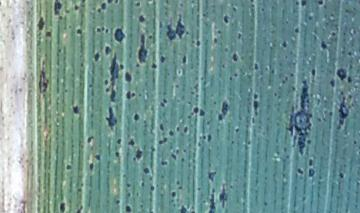tarspot: (286, 79, 312, 157), (335, 90, 357, 131), (108, 51, 124, 103), (37, 56, 50, 96), (136, 31, 148, 64), (104, 105, 118, 131), (174, 9, 185, 41), (217, 98, 230, 123), (218, 182, 229, 209), (165, 15, 175, 42), (207, 185, 216, 213), (112, 27, 126, 43), (53, 1, 63, 21), (336, 66, 346, 83), (132, 146, 142, 163), (36, 15, 45, 32), (251, 99, 260, 116), (207, 170, 218, 182), (124, 90, 137, 100), (124, 71, 134, 83), (221, 13, 230, 26), (102, 45, 113, 55), (180, 124, 190, 135), (159, 97, 168, 109), (58, 200, 66, 213), (306, 167, 316, 177), (230, 52, 239, 63), (71, 104, 80, 115), (74, 204, 85, 213), (93, 50, 100, 63), (337, 170, 346, 180), (295, 166, 304, 176), (197, 108, 206, 118), (328, 77, 336, 88), (319, 39, 327, 50), (158, 122, 165, 134), (181, 53, 188, 65), (137, 14, 146, 23), (132, 112, 140, 122), (115, 137, 123, 147), (126, 137, 136, 145), (100, 2, 108, 12), (158, 137, 168, 145), (159, 54, 166, 65), (281, 39, 288, 50), (93, 154, 102, 162), (124, 204, 132, 213), (179, 204, 187, 213), (142, 166, 150, 175), (167, 129, 175, 138), (169, 152, 177, 161), (252, 61, 259, 71), (235, 31, 242, 41), (206, 133, 213, 143), (193, 82, 200, 92), (102, 86, 110, 94), (160, 159, 168, 167), (200, 198, 208, 206), (346, 75, 353, 84), (86, 136, 95, 143), (192, 105, 199, 114), (306, 14, 315, 21), (157, 20, 164, 29), (310, 67, 316, 77), (95, 25, 101, 35), (195, 38, 201, 48), (315, 97, 321, 107), (44, 30, 52, 37), (170, 190, 177, 198), (216, 28, 224, 35), (148, 146, 156, 153), (316, 1, 325, 7), (63, 8, 72, 14), (75, 187, 84, 193), (177, 67, 183, 76), (137, 91, 143, 100), (66, 163, 73, 170), (150, 63, 157, 70), (300, 1, 307, 8), (288, 71, 295, 78), (293, 27, 300, 34), (307, 158, 313, 166), (88, 162, 94, 170), (149, 184, 155, 192), (234, 126, 240, 134), (195, 186, 203, 192), (175, 125, 180, 134), (316, 115, 321, 124), (252, 92, 258, 99), (306, 138, 312, 145), (328, 110, 334, 117), (212, 37, 218, 44), (231, 6, 238, 12), (125, 182, 132, 188), (72, 4, 79, 10), (78, 182, 85, 188), (179, 156, 186, 162), (204, 119, 211, 125), (87, 83, 94, 89), (103, 78, 108, 86), (113, 1, 121, 6), (100, 24, 104, 34), (270, 67, 275, 75), (191, 38, 196, 46), (294, 1, 300, 7), (346, 50, 352, 56), (228, 76, 234, 82), (223, 46, 229, 52), (125, 191, 131, 197), (140, 181, 146, 187), (177, 185, 183, 191), (115, 198, 121, 204), (263, 66, 269, 72), (173, 82, 179, 88), (246, 139, 252, 145), (212, 100, 218, 106), (178, 2, 184, 8), (121, 172, 127, 178), (135, 190, 139, 199), (80, 61, 84, 70), (133, 63, 140, 68), (134, 2, 141, 7), (106, 1, 113, 6), (202, 134, 207, 141), (114, 150, 118, 158), (75, 28, 79, 36), (96, 8, 102, 13), (104, 27, 109, 33), (352, 139, 357, 145), (291, 86, 296, 92), (331, 31, 337, 36), (233, 71, 238, 77), (186, 114, 192, 119), (260, 7, 266, 12), (181, 148, 187, 153), (230, 139, 235, 145), (322, 116, 327, 122), (194, 93, 200, 98), (187, 100, 192, 106), (185, 29, 190, 35), (138, 203, 144, 208), (57, 48, 62, 54), (147, 176, 154, 180), (175, 180, 180, 185), (220, 63, 225, 68), (189, 209, 195, 213), (190, 90, 194, 95), (80, 1, 86, 4), (273, 91, 276, 97), (248, 1, 254, 3)
